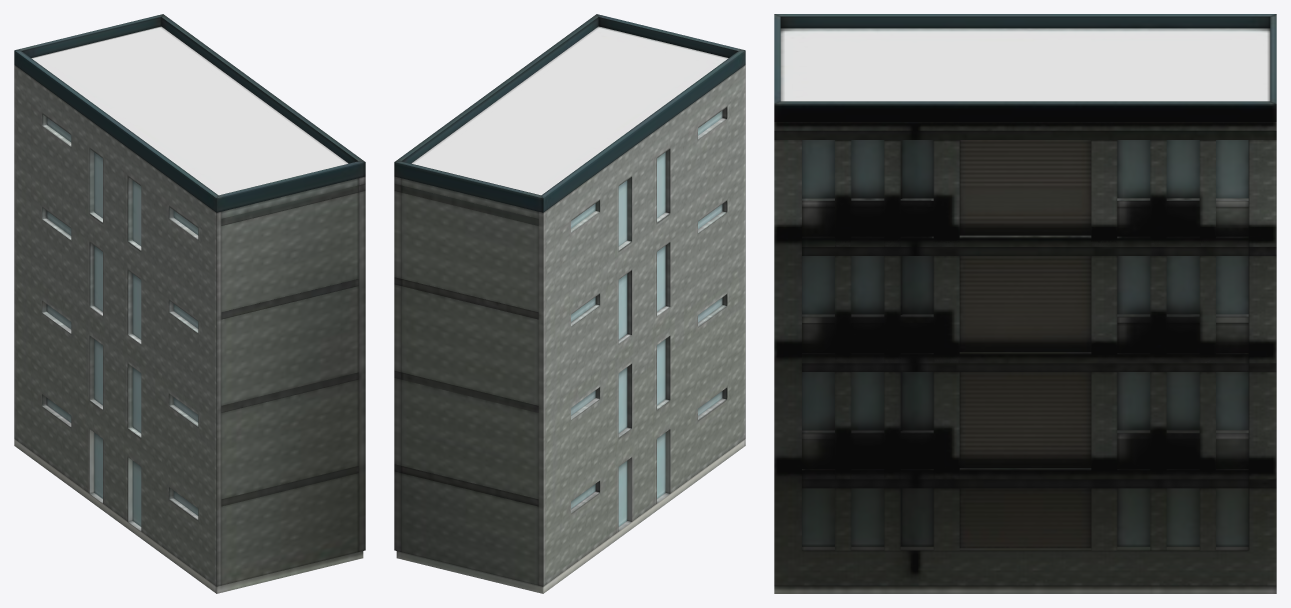
The model's file is teaching_A3Texutre.glb.
3 renders of one model, left to right at view 1: azimuth 30°, elevation 25°; view 2: azimuth 150°, elevation 25°; view 3: azimuth 270°, elevation 25°, orthographic. The views are drawn at different scales.
Parts seen in each view (by area): view 1: 教学楼A3; view 2: 教学楼A3; view 3: 教学楼A3.
Boxes of the visible parts, bbox=[...] form: 教学楼A3: bbox=[14, 14, 365, 593]; 教学楼A3: bbox=[394, 14, 745, 593]; 教学楼A3: bbox=[774, 14, 1276, 593].
Size of the model in its own units: 6.5 by 16.5 by 15.3.
1 material, 1 textured.
